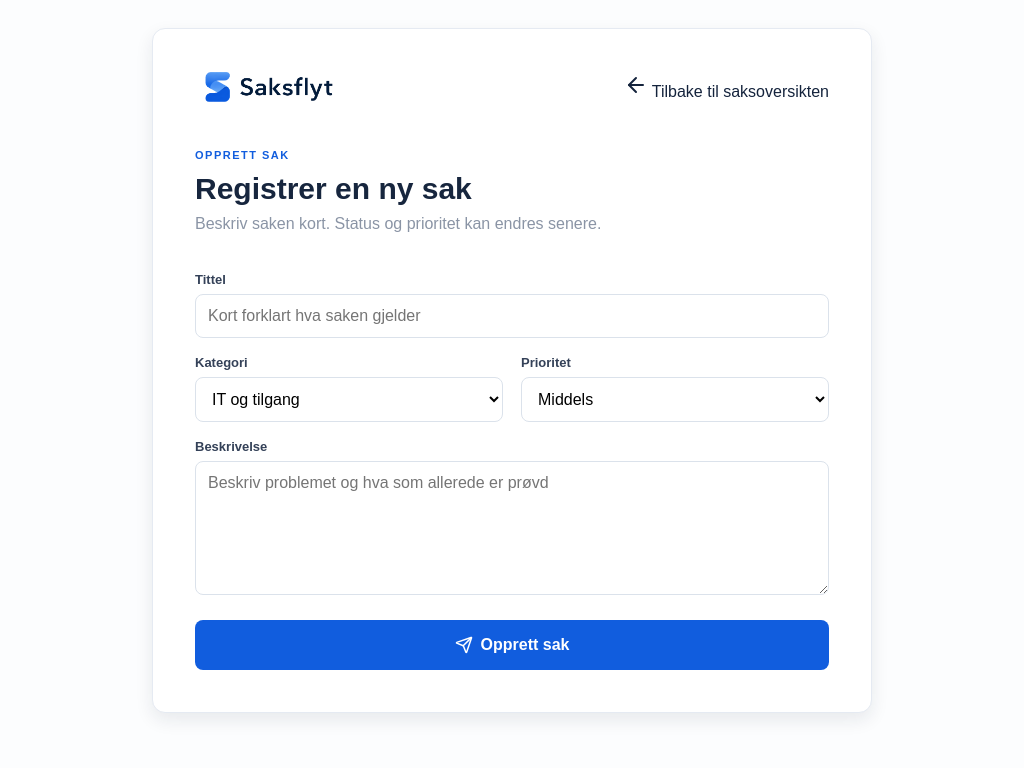
Scenario: viser feilmelding når beskrivelsen mangler
Type "Problem med innlogging" into the field labelled "Tittel" at (512, 316), box 195,294 -> 829,338
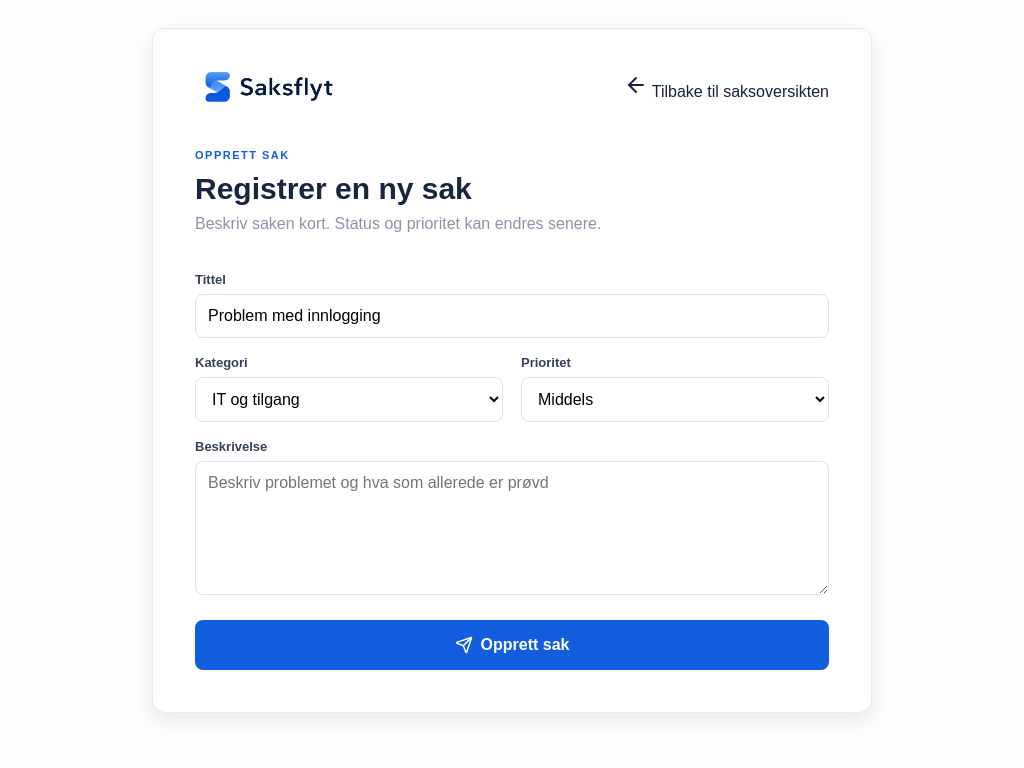
Click the button "Opprett sak" at (512, 645), box 195,620 -> 829,670
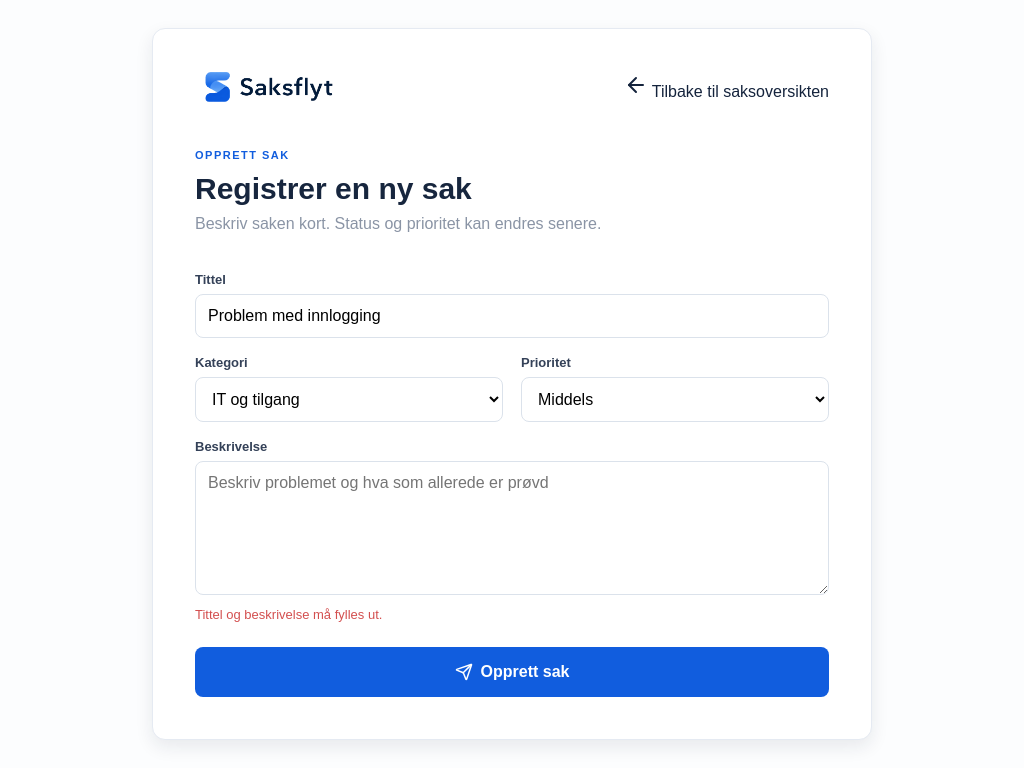
Now the message reads "Tittel og beskrivelse må fylles ut.", box 195,607 -> 382,622
